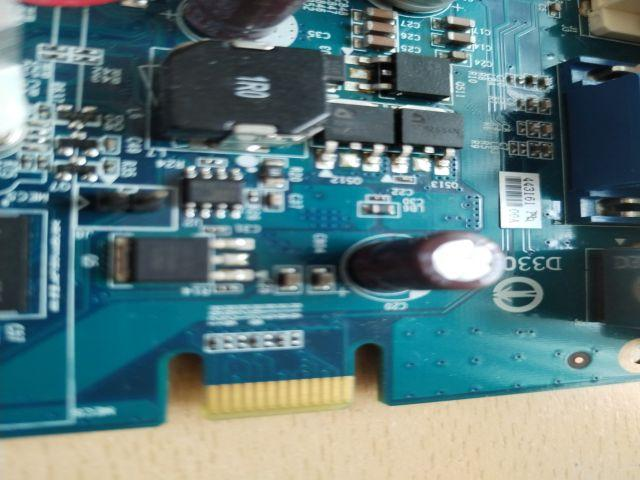capacitor: (309, 262, 335, 295), (273, 271, 305, 295), (438, 16, 482, 30), (357, 7, 395, 22), (543, 139, 561, 169), (359, 20, 396, 34), (361, 35, 389, 52), (446, 33, 477, 44), (443, 50, 465, 64), (541, 119, 551, 145)
resistor: (82, 48, 94, 58), (44, 44, 63, 50), (39, 55, 63, 59)
